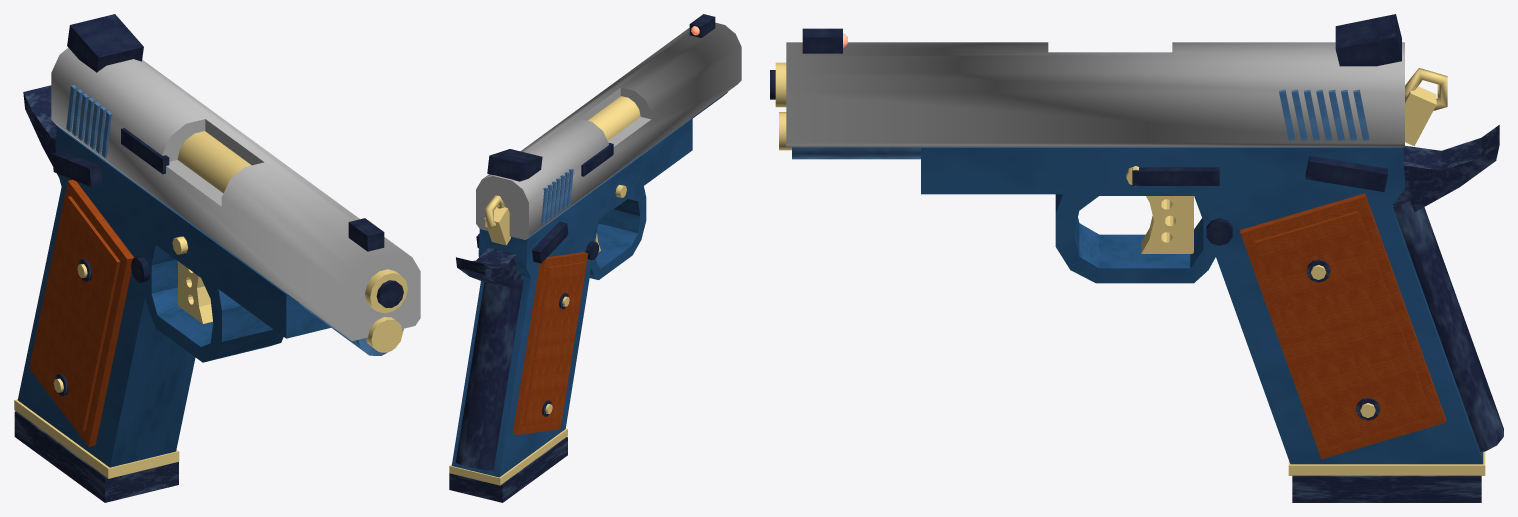
The model's file is pistol.glb.
The picture shows the model from 3 angles, left to right: view 1: azimuth 30°, elevation 25°; view 2: azimuth 150°, elevation 25°; view 3: azimuth 270°, elevation 25°; orthographic projection. The views are drawn at different scales.
Visible parts, largest first — view 1: pistol_slide, pistol_frame_main, grip_panel_bevel_R, grip_panel_base_R, magazine_baseplate, rear_sight, barrel_chamber, magazine_baseplate_trim, beavertail_safety, trigger_shoe, thumb_safety_R, recoil_spring_plug (+4 smaller); view 2: pistol_slide, pistol_frame_main, frame_mainspring_housing, grip_panel_bevel_R, grip_panel_base_R, magazine_baseplate, beavertail_safety, rear_sight, barrel_chamber, magazine_baseplate_trim, thumb_safety_R, hammer_arm (+3 smaller); view 3: pistol_slide, pistol_frame_main, grip_panel_bevel_L, grip_panel_base_L, frame_mainspring_housing, magazine_baseplate, beavertail_safety, rear_sight, trigger_shoe, magazine_baseplate_trim, thumb_safety_L, slide_spring_tunnel (+4 smaller).
Boxes of the visible parts, x1,y1,x2,y2 form: pistol_slide: (51, 47, 420, 341); pistol_frame_main: (17, 126, 330, 467); grip_panel_bevel_R: (33, 196, 120, 431); grip_panel_base_R: (29, 179, 133, 446); magazine_baseplate: (14, 411, 178, 502); rear_sight: (67, 14, 143, 72); barrel_chamber: (177, 131, 251, 193); magazine_baseplate_trim: (14, 399, 179, 478); beavertail_safety: (23, 85, 58, 176); trigger_shoe: (178, 261, 212, 323); thumb_safety_R: (52, 151, 102, 186); recoil_spring_plug: (366, 317, 402, 352); pistol_slide: (476, 22, 741, 239); pistol_frame_main: (451, 118, 692, 477); frame_mainspring_housing: (456, 278, 523, 470); grip_panel_bevel_R: (522, 262, 585, 426); grip_panel_base_R: (512, 252, 588, 434); magazine_baseplate: (449, 437, 567, 502); beavertail_safety: (456, 247, 521, 289); rear_sight: (487, 149, 542, 181); barrel_chamber: (587, 96, 640, 140); magazine_baseplate_trim: (449, 428, 567, 485); thumb_safety_R: (532, 221, 568, 263); hammer_arm: (484, 207, 510, 245); pistol_slide: (786, 42, 1404, 147); pistol_frame_main: (921, 147, 1483, 464); grip_panel_bevel_L: (1254, 211, 1431, 446); grip_panel_base_L: (1240, 193, 1445, 459); frame_mainspring_housing: (1393, 200, 1503, 451); magazine_baseplate: (1292, 475, 1481, 502); beavertail_safety: (1393, 125, 1499, 212); rear_sight: (1335, 14, 1401, 66); trigger_shoe: (1141, 196, 1193, 253); magazine_baseplate_trim: (1288, 451, 1485, 475); thumb_safety_L: (1305, 155, 1387, 192); slide_spring_tunnel: (792, 147, 920, 159).
Bounding box in the file's own units: 0.322 × 1.39 × 2.02.
Materials: 7 (4 with a texture image).
